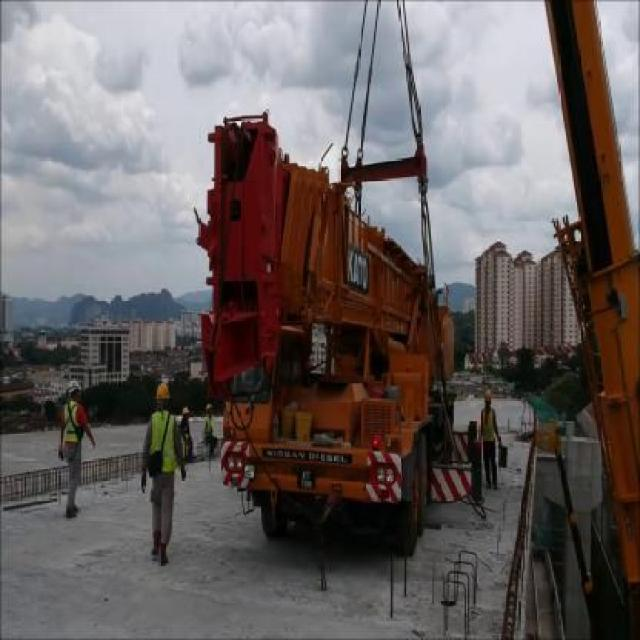Mobile Crane: (199, 115, 473, 556)
